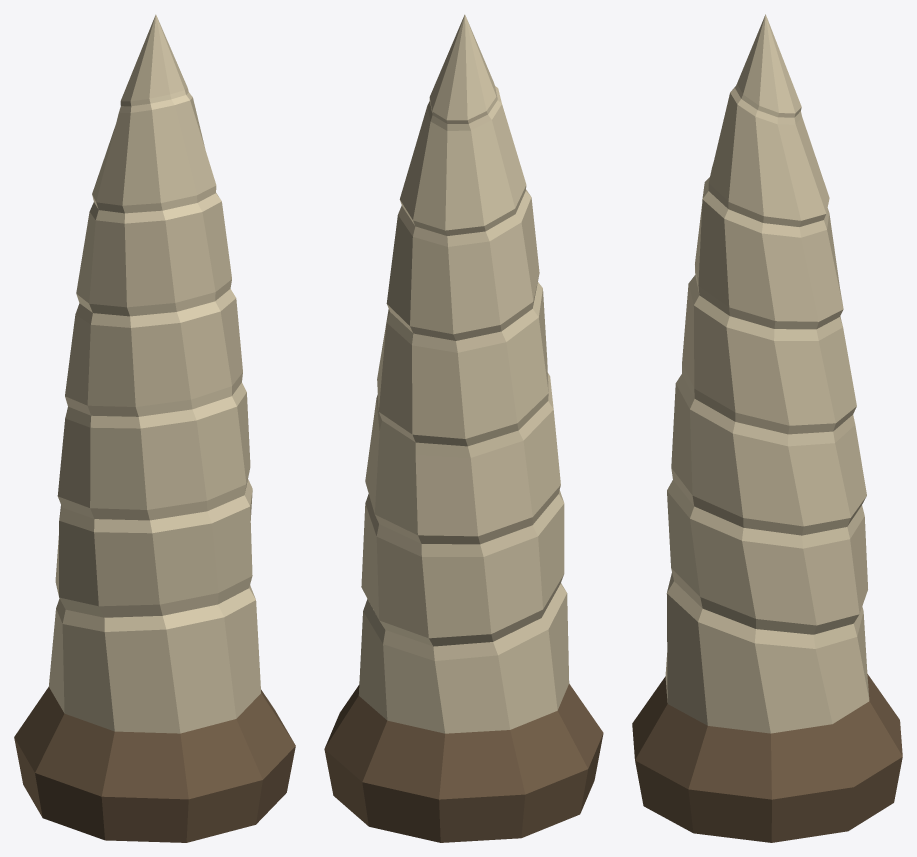
File: Unicorn horn.fbx
3 renders of one model, left to right at view 1: azimuth 30°, elevation 25°; view 2: azimuth 150°, elevation 25°; view 3: azimuth 270°, elevation 25°, orthographic.
Parts seen in each view (by area): view 1: Cylinder; view 2: Cylinder; view 3: Cylinder.
Boxes of the visible parts, x1,y1,x2,y2 form: Cylinder: (14,14,295,842); Cylinder: (324,14,603,842); Cylinder: (632,14,902,842).
Size of the model in its own units: 210 by 637 by 202.
